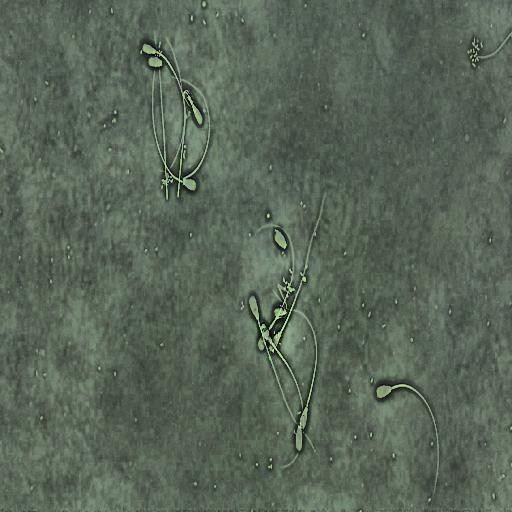coiled-tail: (183, 91, 194, 106), (183, 89, 188, 94), (185, 92, 189, 95)
loose-head: (272, 227, 288, 251), (294, 420, 303, 454), (147, 54, 164, 69)
loose-tail: (170, 74, 211, 179), (164, 34, 187, 198), (152, 29, 170, 203)
normal: (246, 290, 319, 456), (268, 184, 329, 355), (369, 375, 441, 503), (258, 321, 307, 474), (151, 38, 199, 193), (250, 218, 298, 354), (294, 306, 321, 434), (140, 38, 185, 107), (181, 86, 205, 128)
